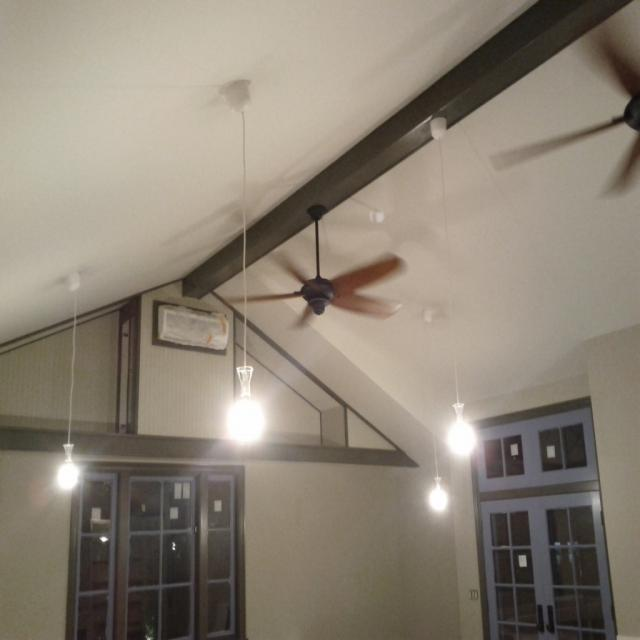bulb_on: (229, 399, 269, 441), (446, 419, 481, 460), (429, 481, 451, 513), (58, 460, 79, 487)
fan_on: (486, 1, 640, 192), (220, 207, 409, 327)
